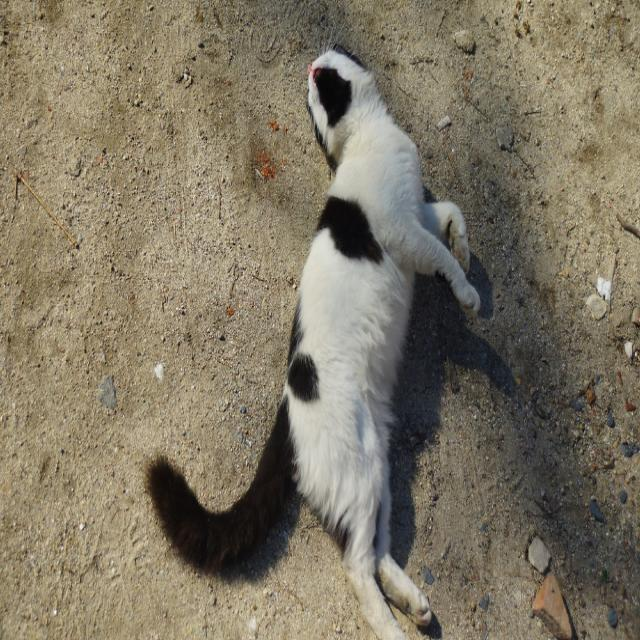cat: (146, 49, 480, 637)
